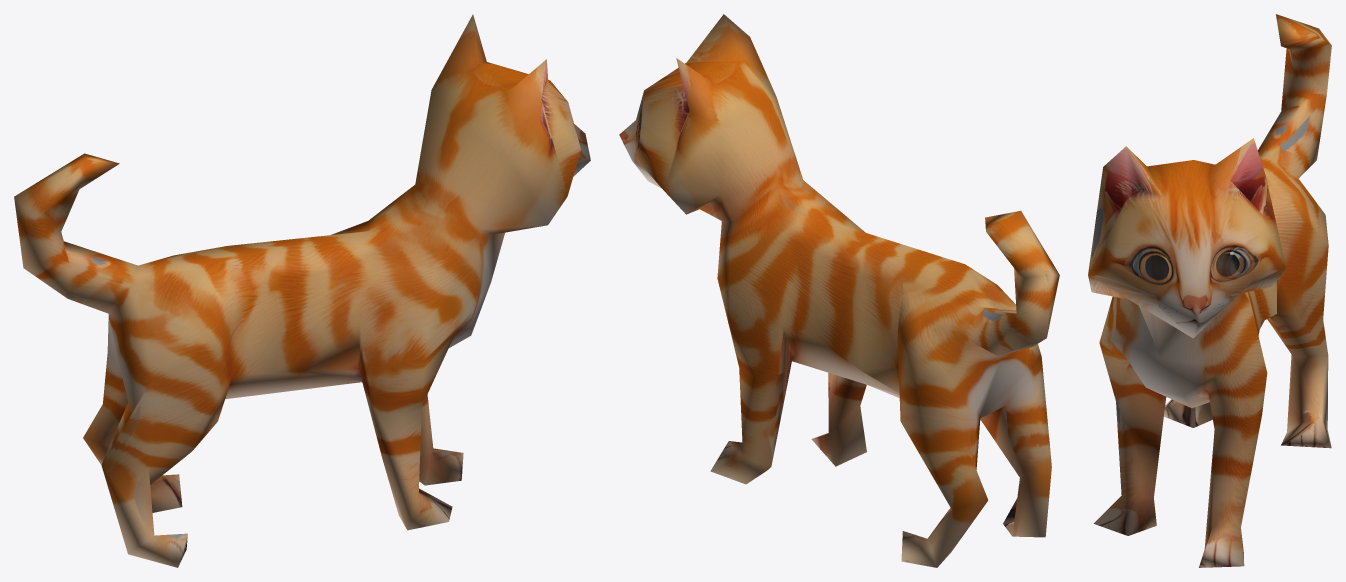
The model's file is TripoModel.glb.
3 views of the same model, side by side, from view 1: azimuth 30°, elevation 25°; view 2: azimuth 150°, elevation 25°; view 3: azimuth 270°, elevation 25° (orthographic). The views are drawn at different scales.
Parts seen in each view (by area): view 1: tripo_node_9b3f7e54-bfe7-4c68-86d8-9e7f804b2599; view 2: tripo_node_9b3f7e54-bfe7-4c68-86d8-9e7f804b2599; view 3: tripo_node_9b3f7e54-bfe7-4c68-86d8-9e7f804b2599.
Part boxes in pixels (bbox=[...]): tripo_node_9b3f7e54-bfe7-4c68-86d8-9e7f804b2599: bbox=[14, 14, 590, 567]; tripo_node_9b3f7e54-bfe7-4c68-86d8-9e7f804b2599: bbox=[619, 14, 1059, 567]; tripo_node_9b3f7e54-bfe7-4c68-86d8-9e7f804b2599: bbox=[1088, 14, 1331, 567].
Bounding box in the file's own units: 0.9955 × 0.8112 × 0.3991.
1 material, 1 textured.
